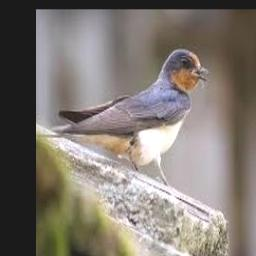Swallow: (52, 50, 210, 186)
